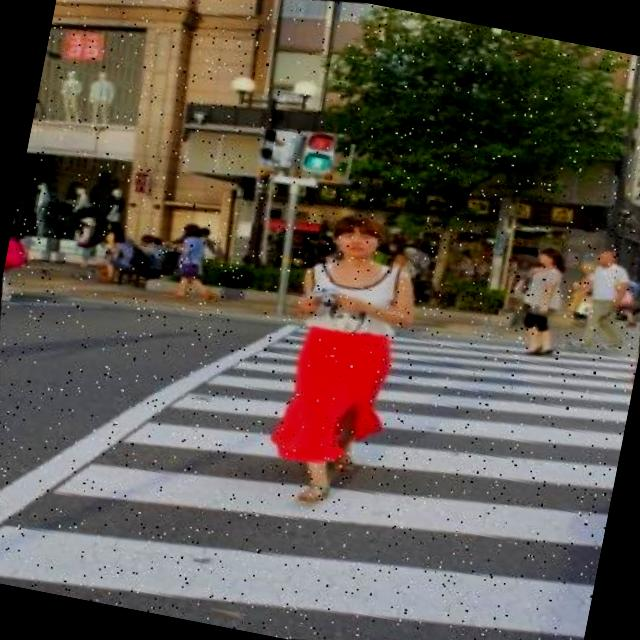Person: (249, 200, 449, 518), (559, 242, 640, 360), (506, 240, 578, 360), (164, 217, 229, 305)
